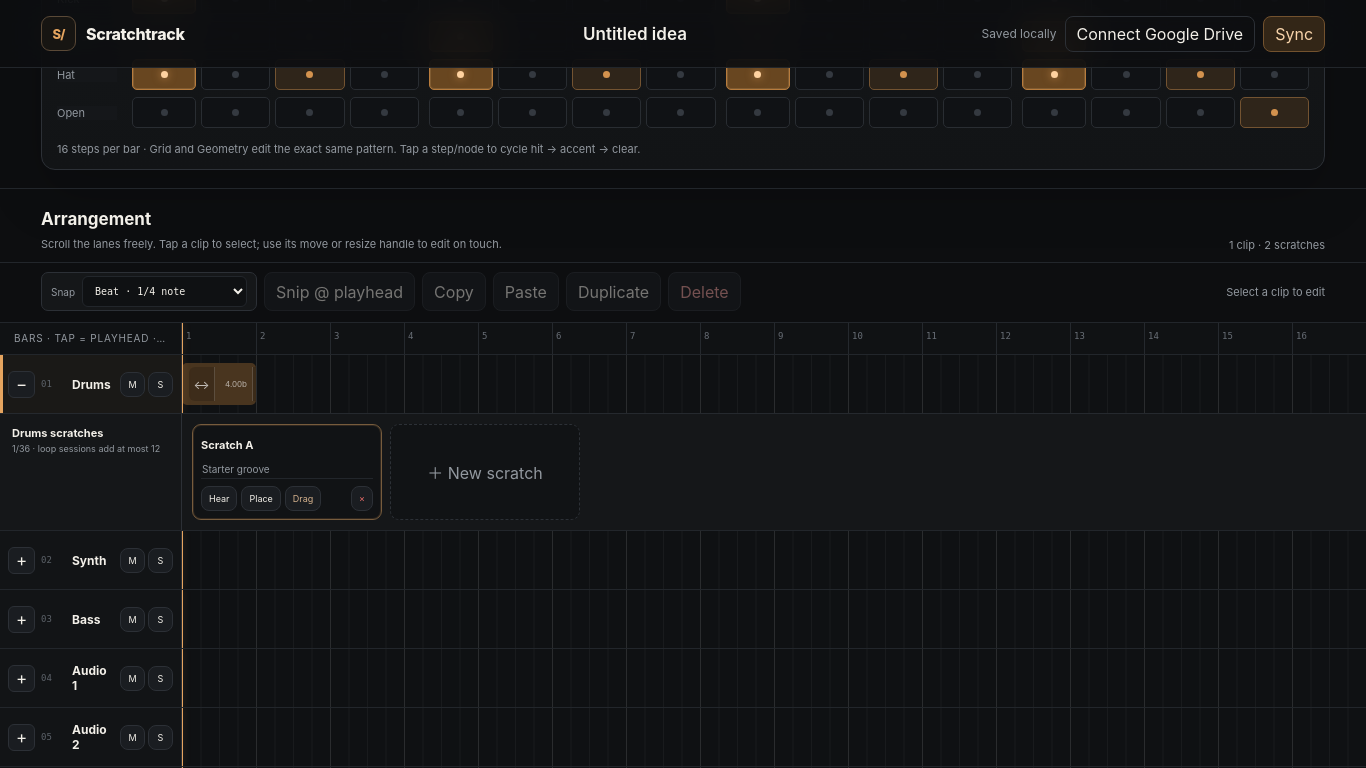
it: app shell › toggles the scratch drawer between − and + with correct ARIA state
(page scrolled)
Click the button named "Close Drums scratches" at [22, 384], box x1=8 y1=370 x2=35 y2=398
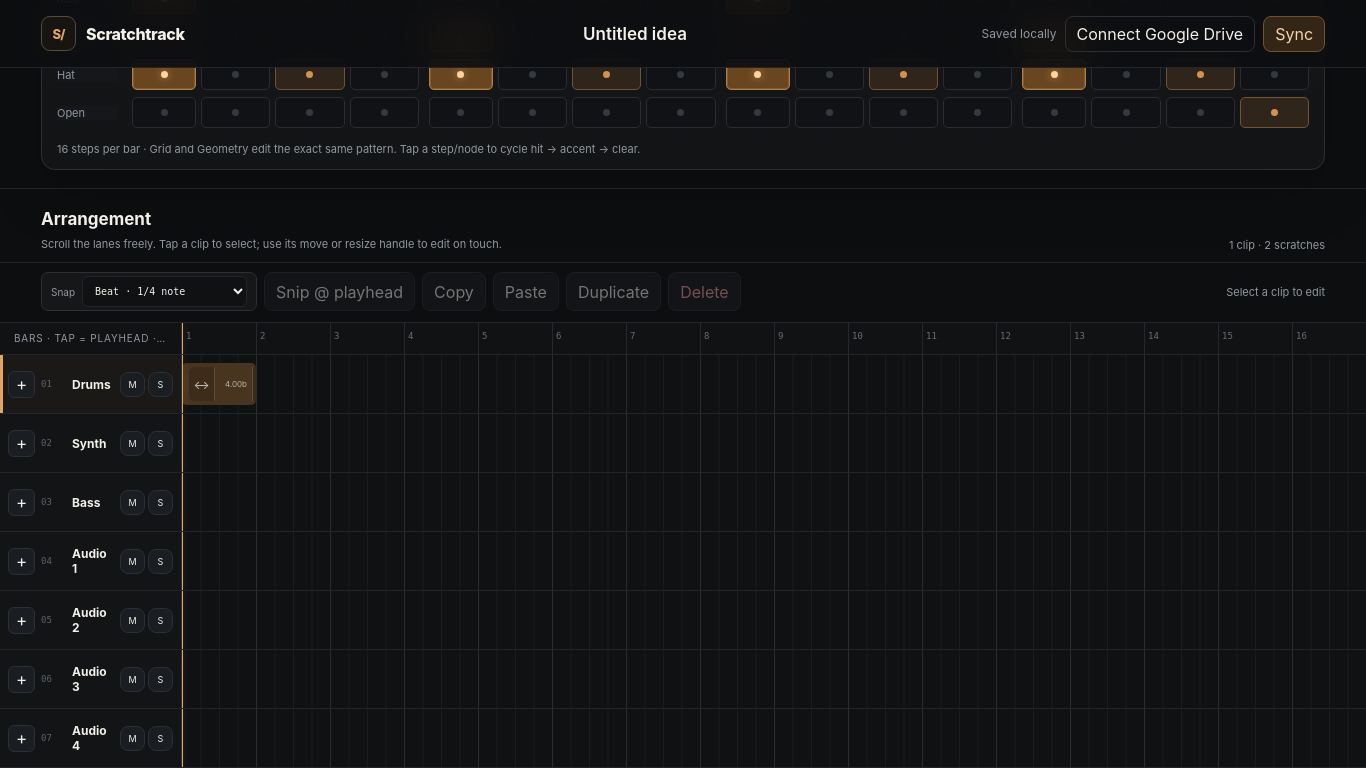
Expected: the button named "Open Drums scratches" reads "+", x1=8 y1=370 x2=35 y2=398
